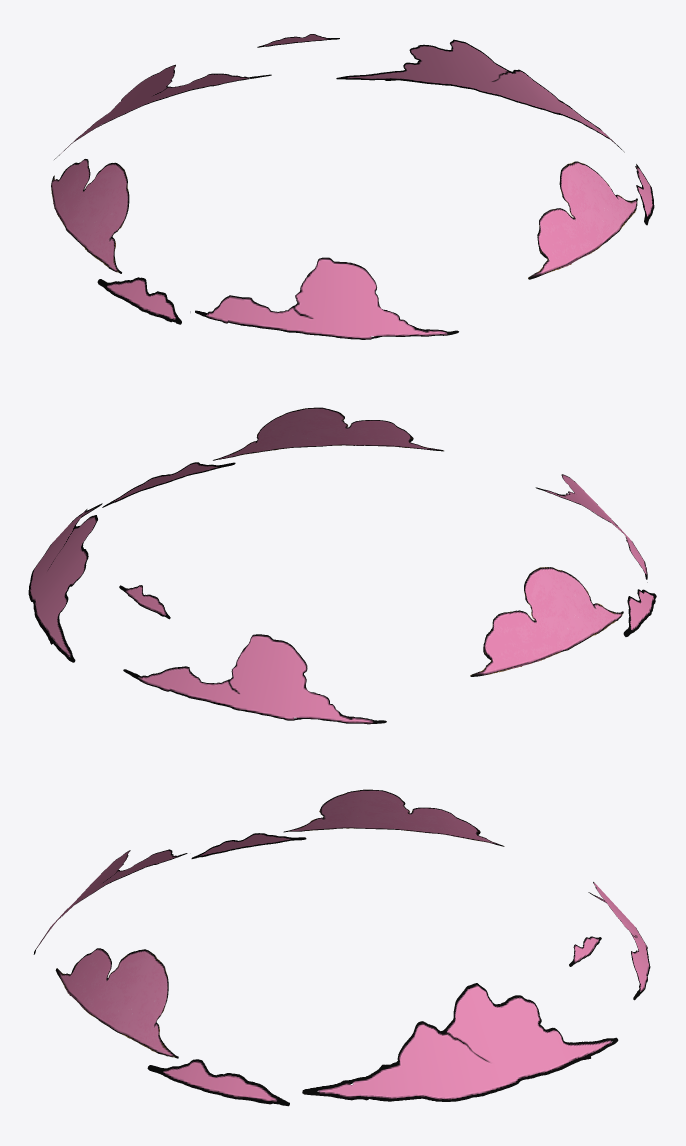
Rendered from Clouds Far.fbx.
3 renders of one model, top to bottom at view 1: azimuth 30°, elevation 25°; view 2: azimuth 150°, elevation 25°; view 3: azimuth 270°, elevation 25°, orthographic.
Visible parts, largest first — view 1: Clouds_Far; view 2: Clouds_Far; view 3: Clouds_Far.
Boxes of the visible parts, x1,y1,x2,y2 form: Clouds_Far: [51, 34, 654, 339]; Clouds_Far: [28, 407, 656, 724]; Clouds_Far: [33, 789, 650, 1106].
Bounding box in the file's own units: 702 × 702 × 139.
